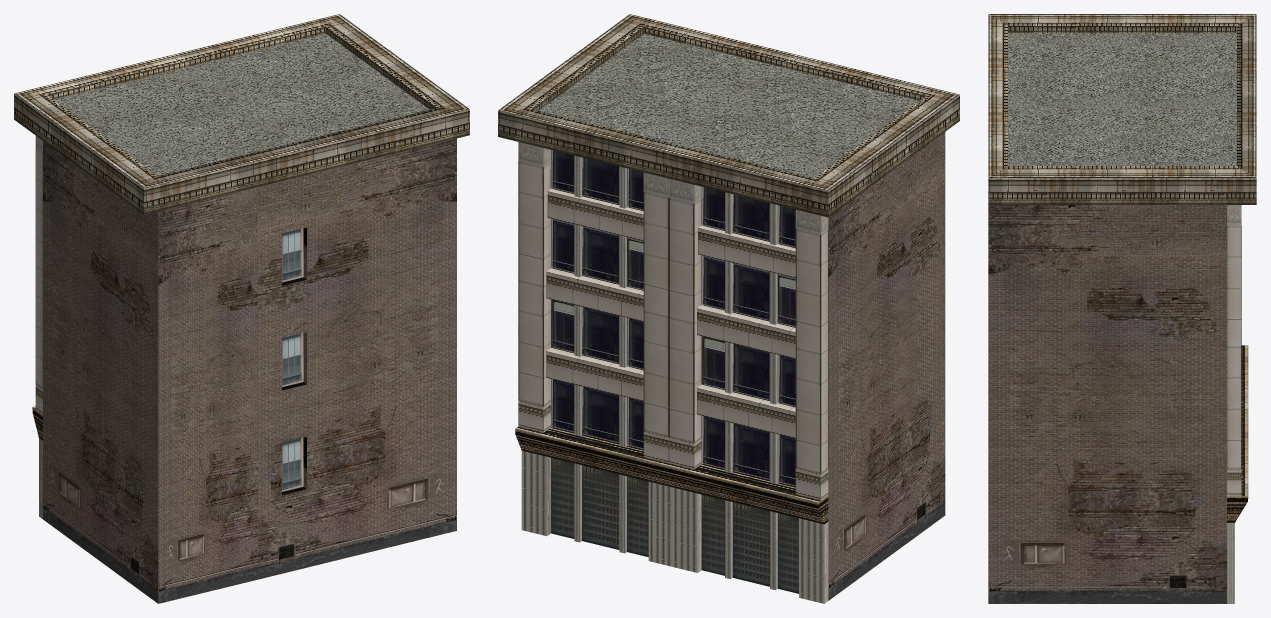
File: Building_15.fbx
3 views of the same model, side by side, from view 1: azimuth 30°, elevation 25°; view 2: azimuth 150°, elevation 25°; view 3: azimuth 270°, elevation 25° (orthographic). The views are drawn at different scales.
Parts seen in each view (by area): view 1: Building_15; view 2: Building_15; view 3: Building_15.
Part boxes in pixels (<box>): Building_15: <box>14,14,469,603</box>; Building_15: <box>498,14,959,603</box>; Building_15: <box>988,14,1256,603</box>.
Size of the model in its own units: 921 by 1131 by 636.
